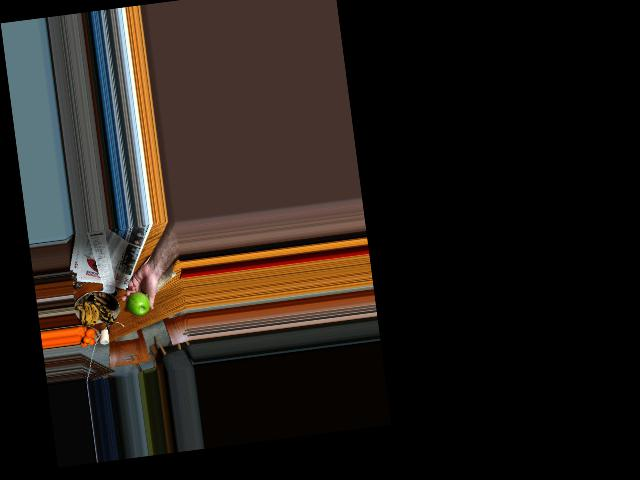apple: (123, 288, 154, 319)
